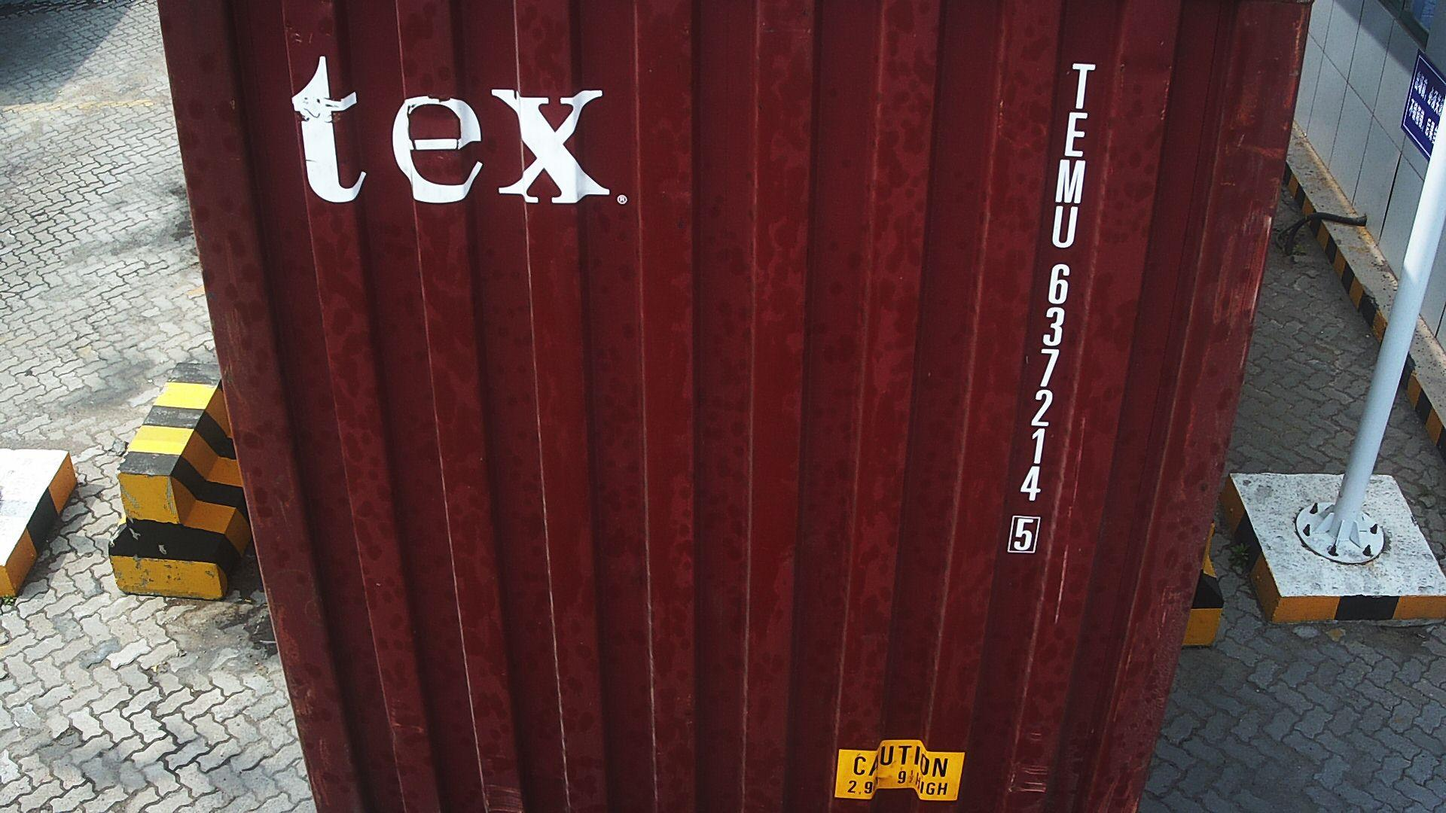container-numbers: (1002, 53, 1098, 558)
